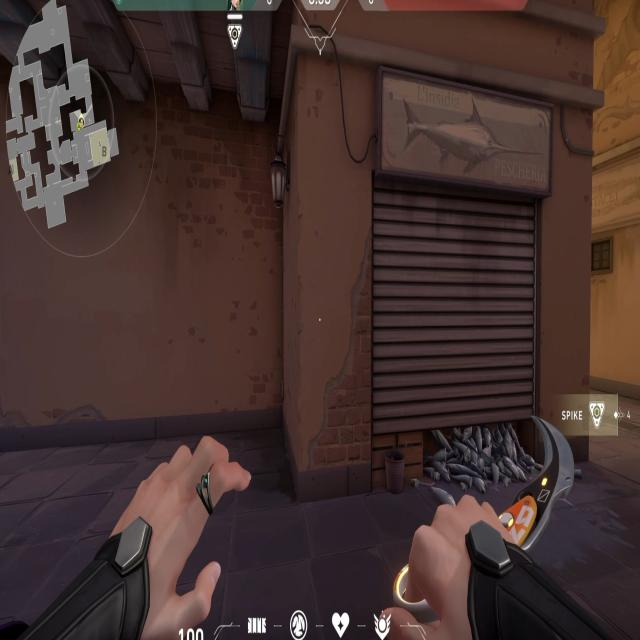B_Main_Corner: (278, 14, 550, 486)
